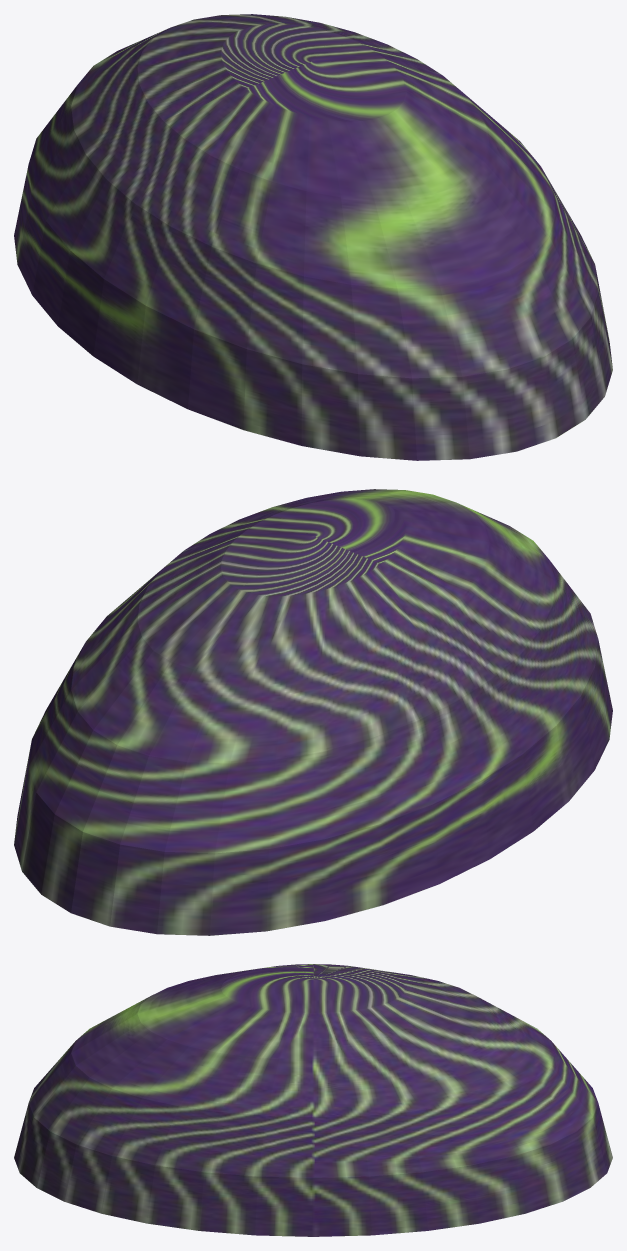
The picture shows the model from 3 angles, top to bottom: view 1: azimuth 30°, elevation 25°; view 2: azimuth 150°, elevation 25°; view 3: azimuth 270°, elevation 25°; orthographic projection. The views are drawn at different scales.
Parts seen in each view (by area): view 1: geometry_0; view 2: geometry_0; view 3: geometry_0.
Part boxes in pixels (box(x1,y1,x2,y2)): geometry_0: box(14, 14, 612, 460); geometry_0: box(14, 489, 612, 935); geometry_0: box(14, 964, 612, 1236).
Bounding box in the file's own units: 2.11 × 1.11 × 3.37.
1 material, 1 textured.
